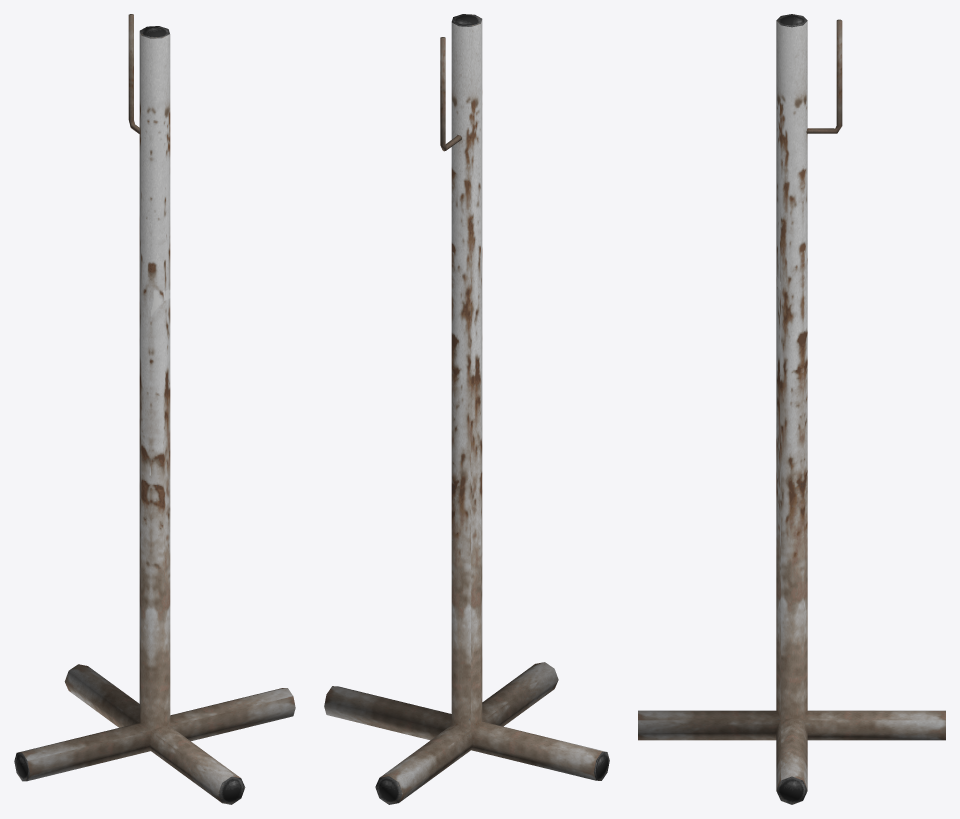
The model's file is road_post_grey.glb.
3 renders of one model, left to right at view 1: azimuth 30°, elevation 25°; view 2: azimuth 150°, elevation 25°; view 3: azimuth 270°, elevation 25°, orthographic.
Visible parts, largest first — view 1: Barierka_Slupek.004_0; view 2: Barierka_Slupek.004_0; view 3: Barierka_Slupek.004_0.
Boxes of the visible parts, x1,y1,x2,y2 form: Barierka_Slupek.004_0: [14, 14, 295, 804]; Barierka_Slupek.004_0: [324, 14, 609, 804]; Barierka_Slupek.004_0: [638, 14, 945, 804].
Size of the model in its own units: 0.39 by 1 by 0.39.
Materials: 1 (1 with a texture image).
